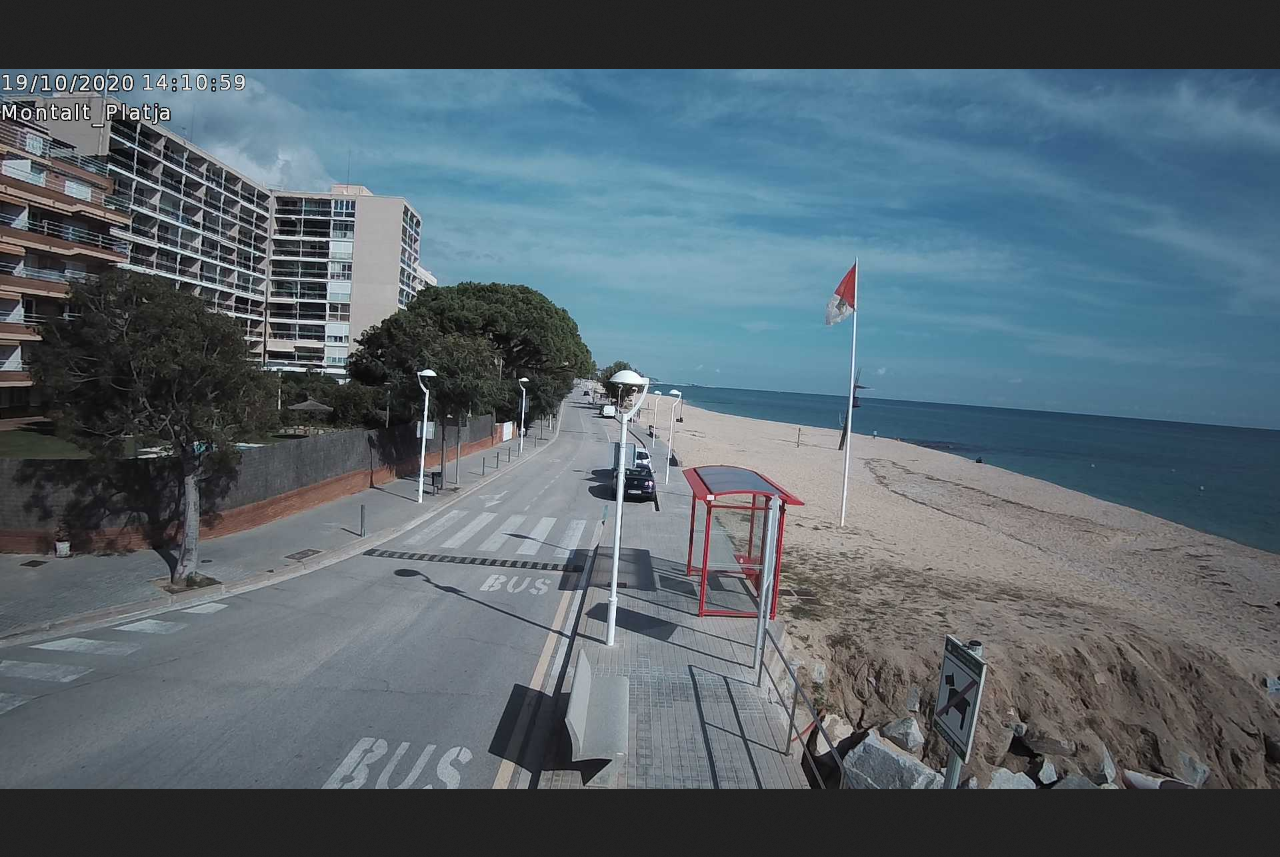maybe: (822, 255, 859, 332)
